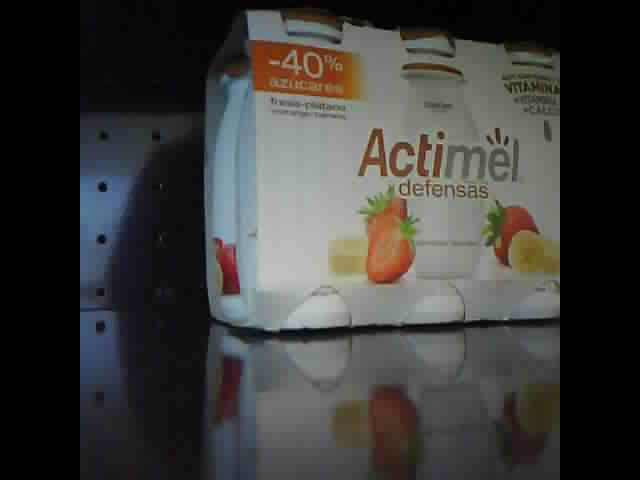actimel: (202, 8, 561, 335)
